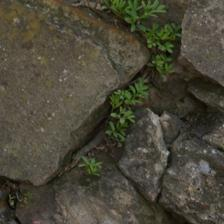Crack: (27, 48, 122, 138), (31, 86, 111, 142), (50, 93, 152, 129)
